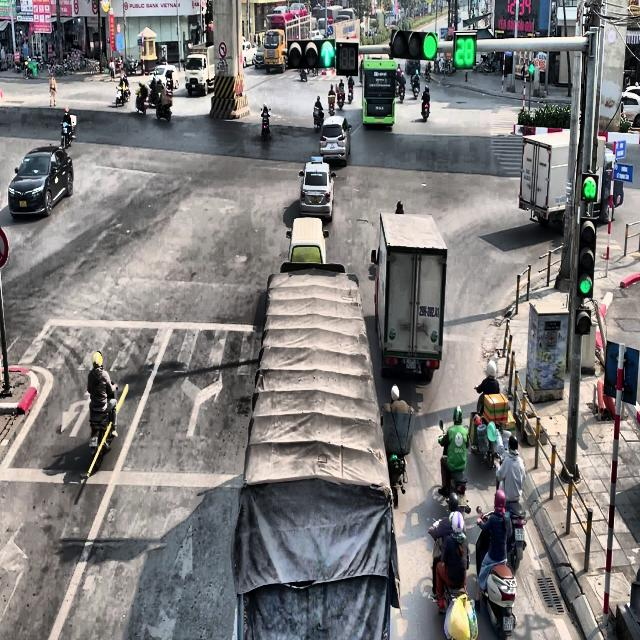lisence_plate: (502, 612, 516, 633), (404, 356, 420, 372)
